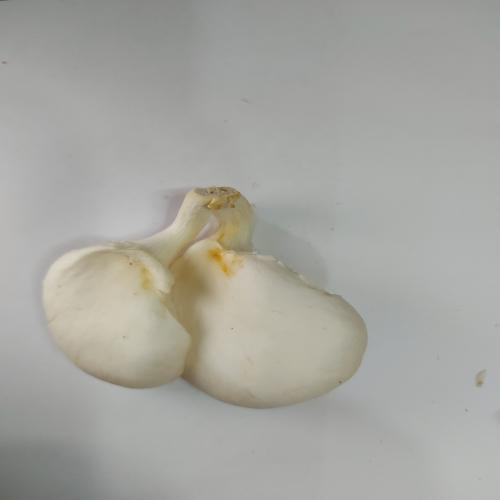Oyster Mushroom: (167, 187, 369, 409), (41, 185, 253, 389)
